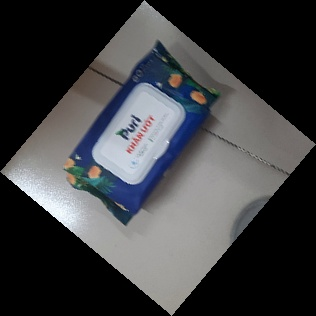Puri Xanh: (62, 41, 220, 227)
